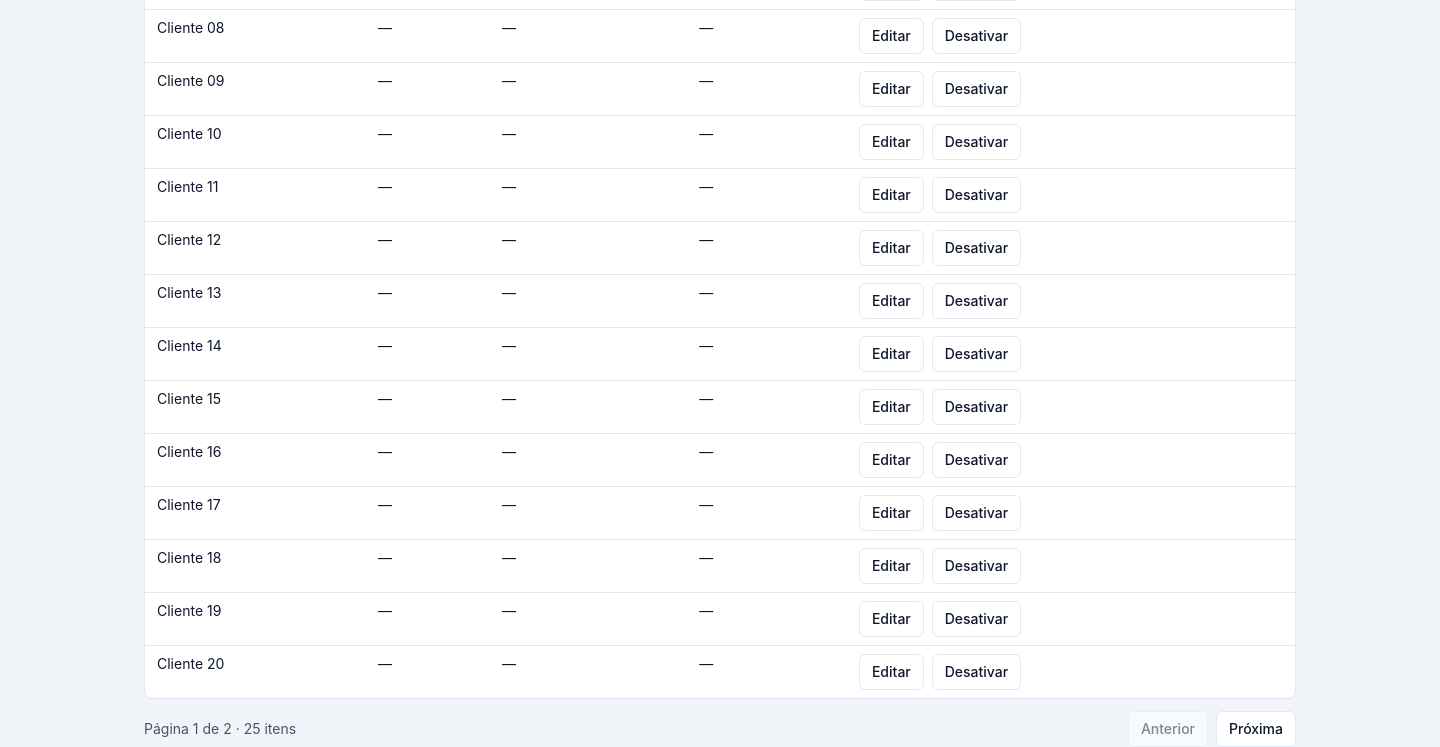
Test: CustomersPage — lista › pede a próxima página ao servidor
The image size is (1440, 747).
(page scrolled)
Expected: the cell "Cliente 21" is not shown
Click the button with aria-label "Próxima página" at (1256, 729), box x1=1216 y1=711 x2=1296 y2=746
(page scrolled)
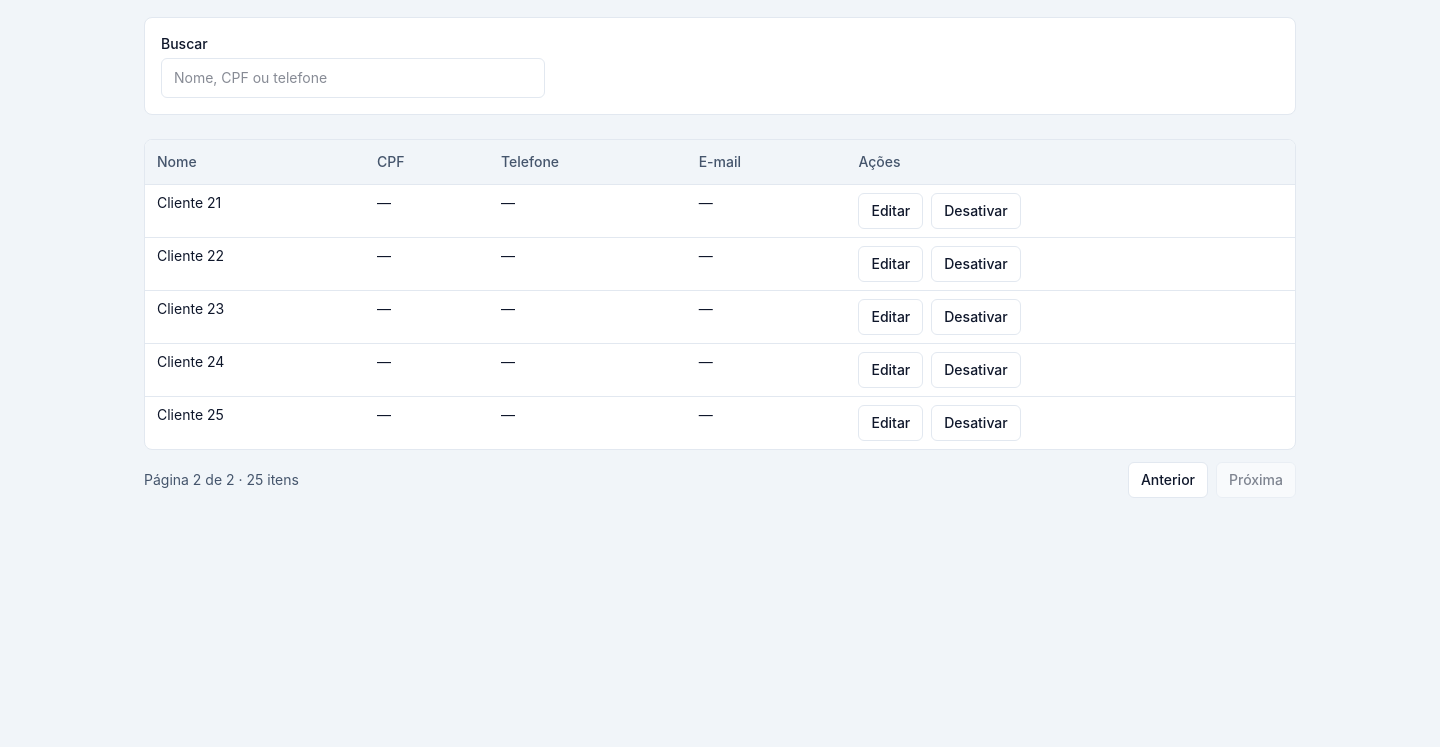
Expected: the cell "Cliente 21" is shown, x1=145 y1=184 x2=365 y2=238
Expected: the text "Página 2 de 2 · 25 itens" is shown, x1=144 y1=470 x2=299 y2=490
